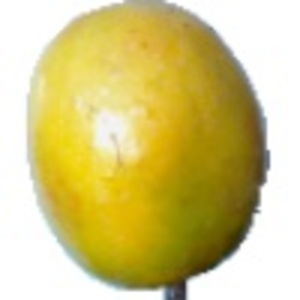maracujá: (24, 1, 272, 300)
